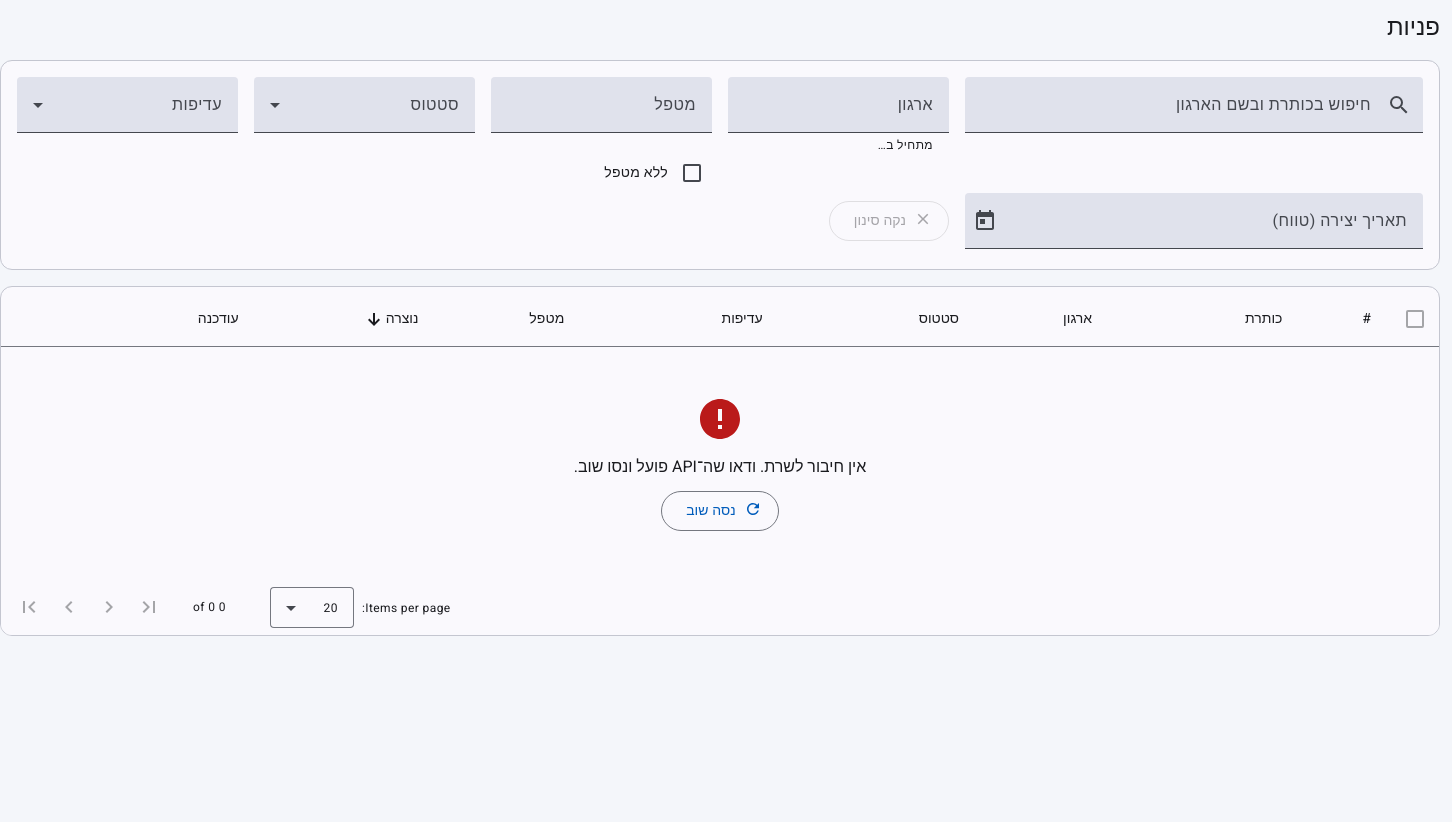
Test case: RequestsPageComponent › shows the error with a retry button that loads the same query again
The width and height of the screenshot is (1452, 822).
Click the button "נסה שוב" at (720, 511), box [661,491,779,531]
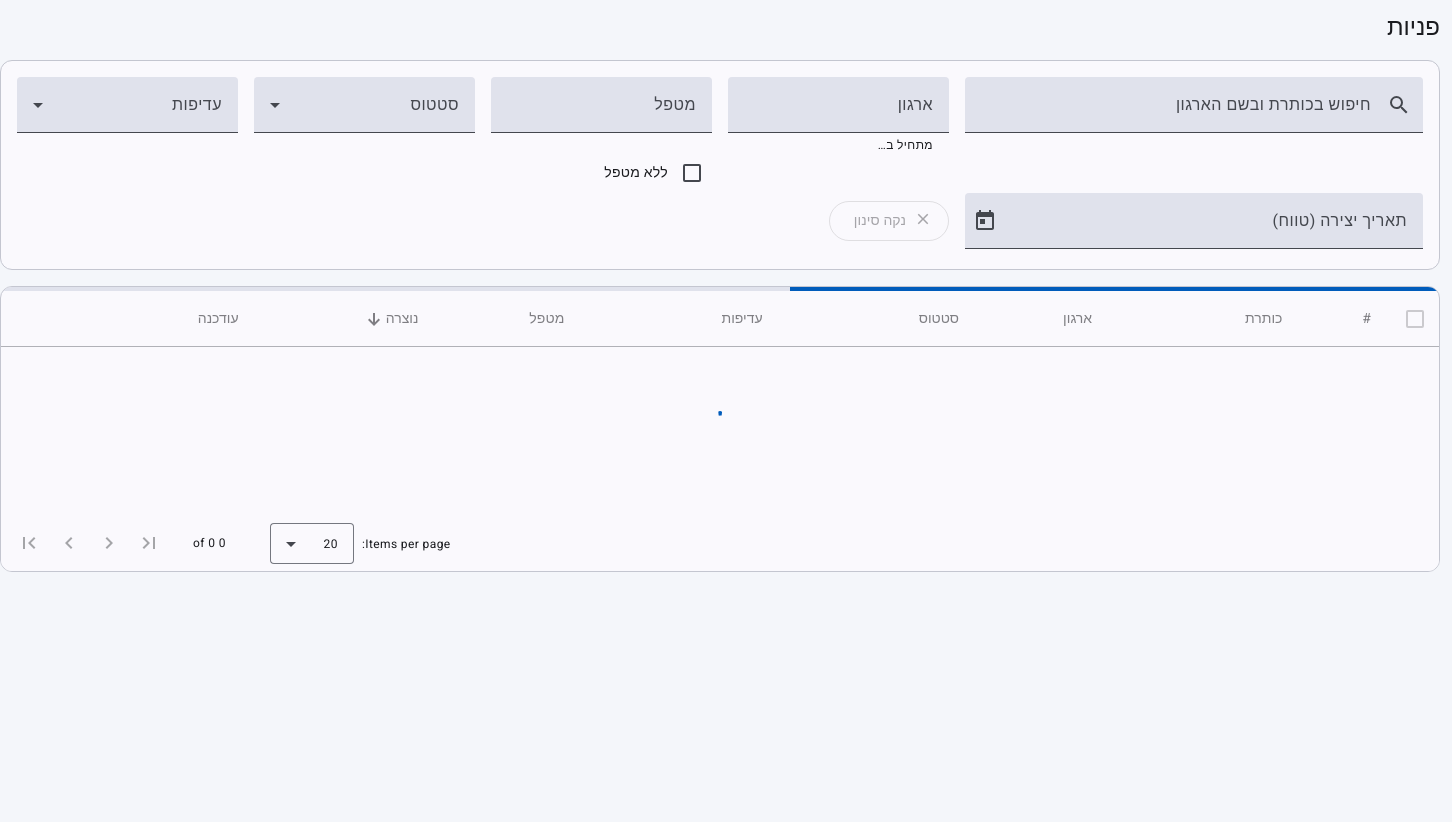
Expected: the 2nd progress indicator is shown, [700,411,740,451]
